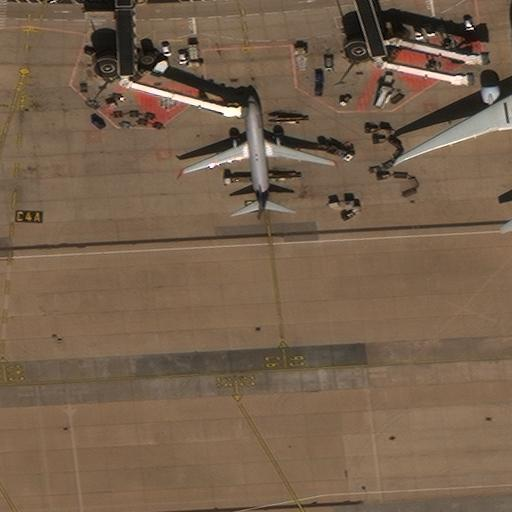Large Civil Transport: (396, 21, 511, 209)
Medium Civil Transport: (181, 96, 334, 218)
